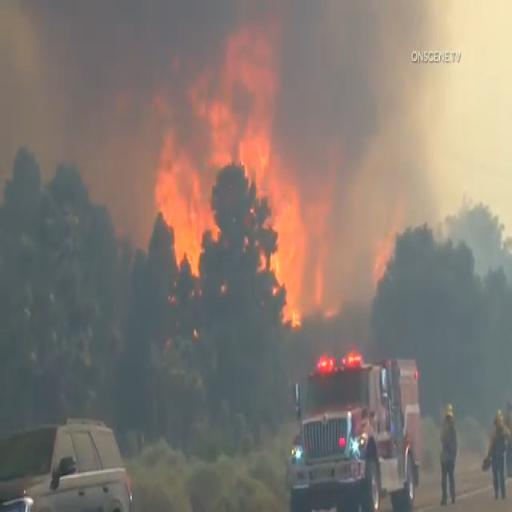fire: (153, 102, 313, 303)
